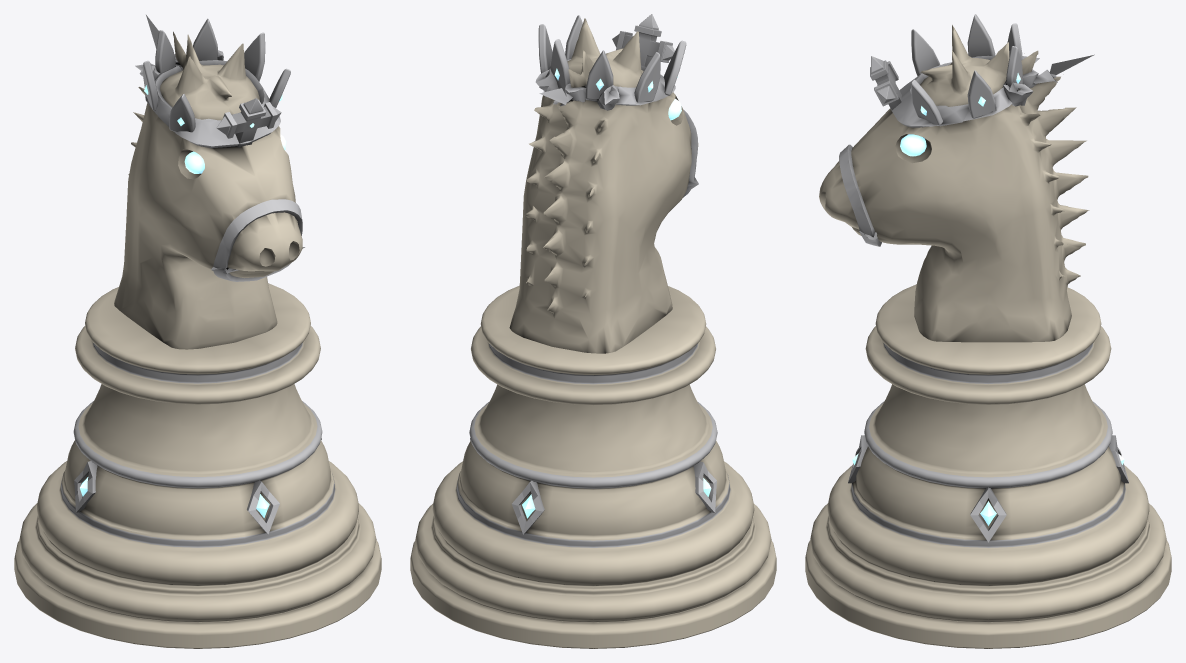
The model's file is centaur.glb.
The picture shows the model from 3 angles, left to right: view 1: azimuth 30°, elevation 25°; view 2: azimuth 150°, elevation 25°; view 3: azimuth 270°, elevation 25°; orthographic projection.
Parts seen in each view (by area): view 1: centaur; view 2: centaur; view 3: centaur.
Part boxes in pixels (x1=…): centaur: x1=14, y1=15, x2=381, y2=648; centaur: x1=410, y1=14, x2=776, y2=648; centaur: x1=805, y1=14, x2=1171, y2=648.
Bounding box in the file's own units: 0.74 × 1.2 × 0.74.
